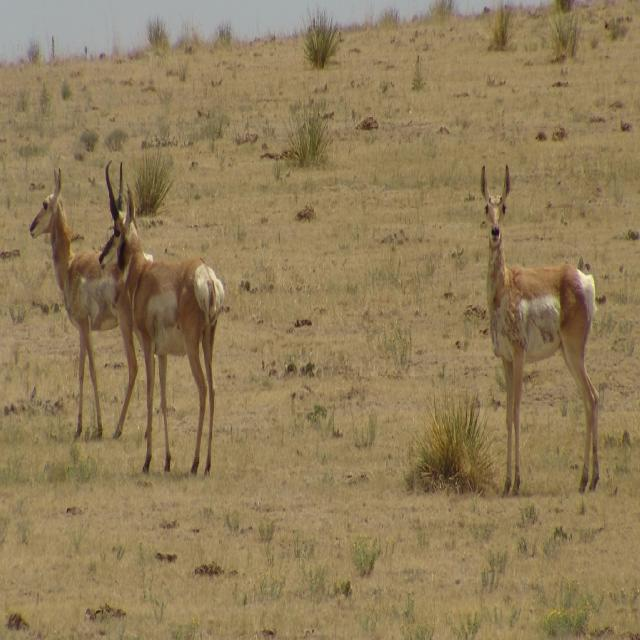Deer: (479, 166, 599, 499), (98, 159, 224, 474), (29, 167, 153, 439)
